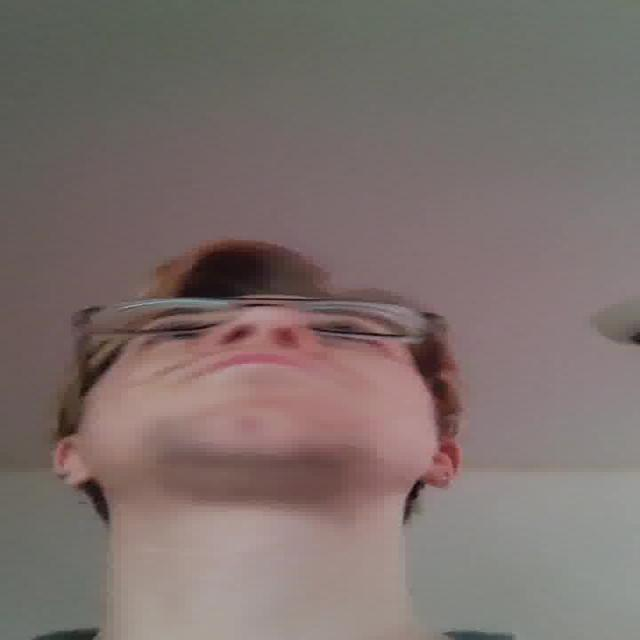earlobe: (415, 467, 458, 489), (61, 465, 94, 487)
eye: (146, 324, 204, 344), (324, 327, 381, 347)
nose: (212, 333, 312, 358)
wholeear: (416, 435, 466, 488), (51, 434, 93, 487)
